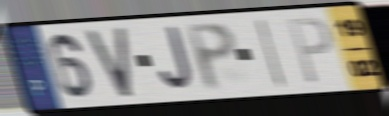6: (48, 31, 94, 101)
I: (254, 16, 288, 91)
J: (157, 24, 196, 94)
P: (182, 19, 239, 94), (286, 14, 335, 87)
V: (83, 24, 136, 100)
